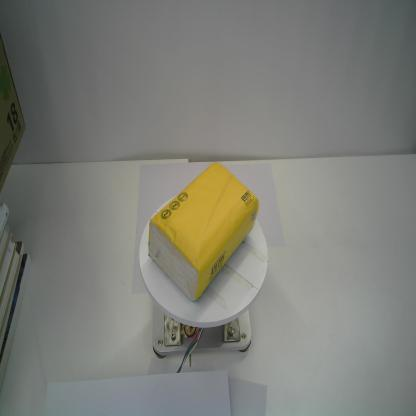Tissue: (146, 160, 259, 304)
